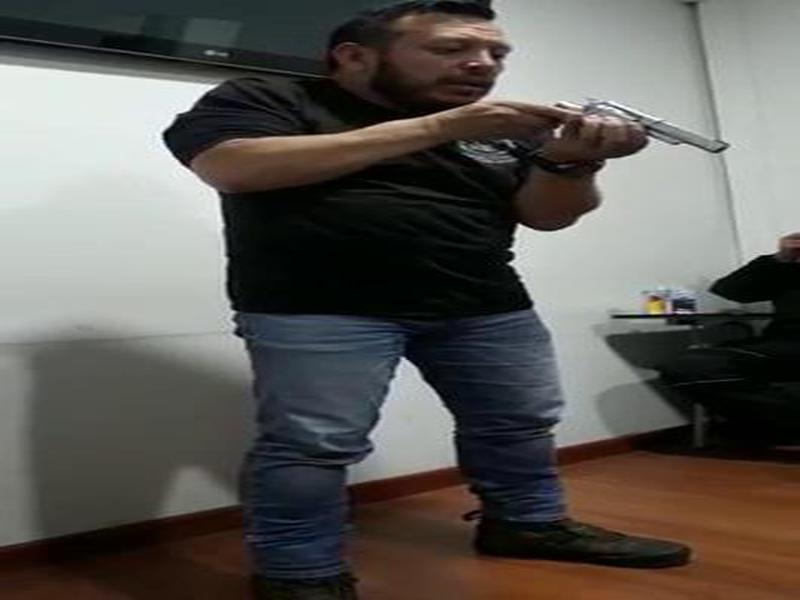Revolver: (498, 68, 744, 197)
